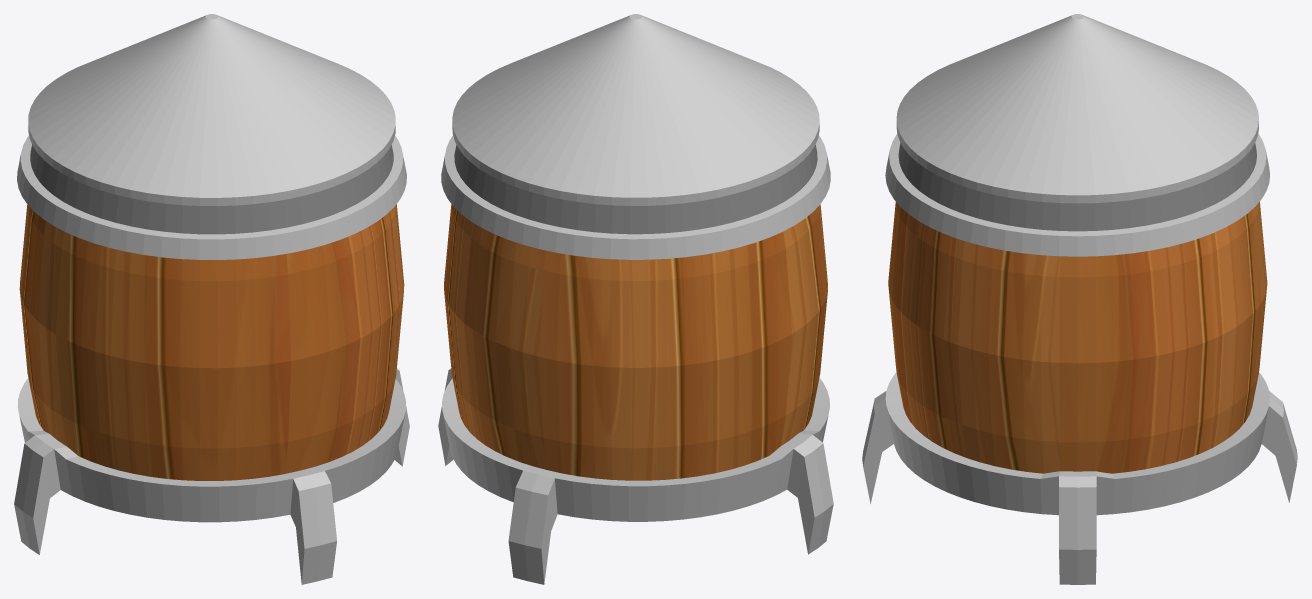
The model's file is Rocket6.fbx.
The picture shows the model from 3 angles, left to right: view 1: azimuth 30°, elevation 25°; view 2: azimuth 150°, elevation 25°; view 3: azimuth 270°, elevation 25°; orthographic projection.
Parts seen in each view (by area): view 1: Cylinder, Cylinder.001, Cylinder.002; view 2: Cylinder, Cylinder.001, Cylinder.002; view 3: Cylinder, Cylinder.001, Cylinder.002.
Part boxes in pixels (left/top/right/bottom): Cylinder: left=19, top=204, right=404, bottom=480; Cylinder.001: left=17, top=14, right=406, bottom=259; Cylinder.002: left=14, top=368, right=409, bottom=584; Cylinder: left=444, top=204, right=827, bottom=480; Cylinder.001: left=441, top=14, right=830, bottom=259; Cylinder.002: left=438, top=368, right=833, bottom=584; Cylinder: left=888, top=201, right=1267, bottom=473; Cylinder.001: left=885, top=14, right=1269, bottom=256; Cylinder.002: left=862, top=372, right=1297, bottom=584.
Bounding box in the file's own units: 256 × 315 × 259.
4 materials, 1 textured.
